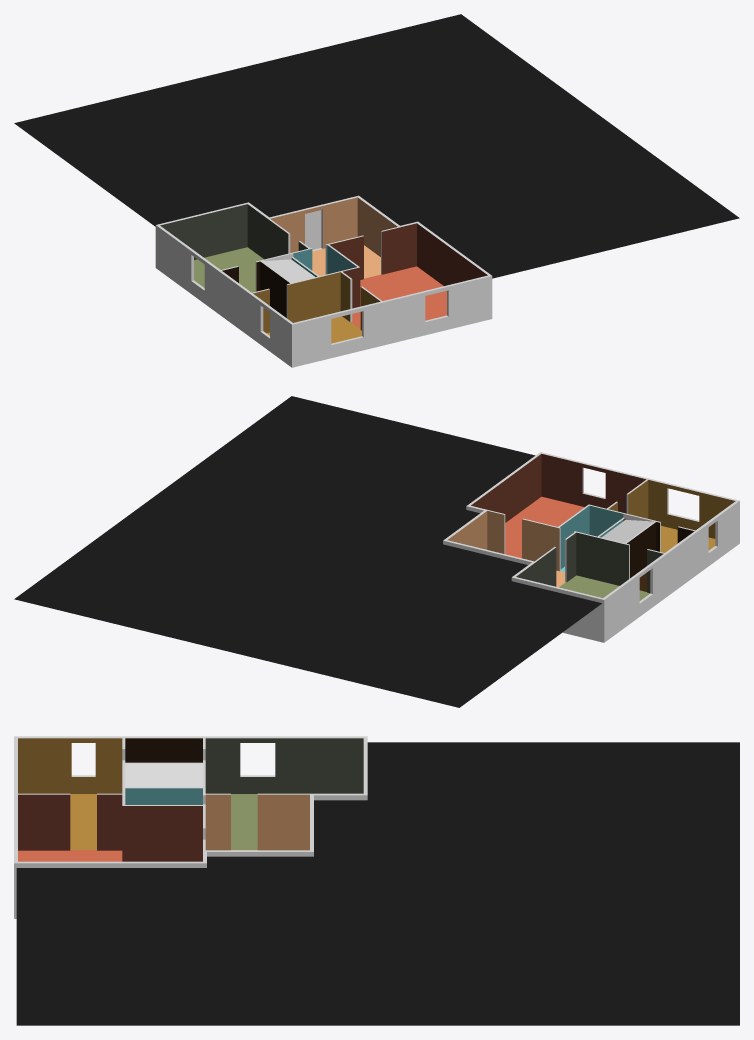
The model's file is map.fbx.
The picture shows the model from 3 angles, top to bottom: view 1: azimuth 30°, elevation 25°; view 2: azimuth 150°, elevation 25°; view 3: azimuth 270°, elevation 25°; orthographic projection. The views are drawn at different scales.
Visible parts, largest first — view 1: Бэк, План; view 2: Бэк, План; view 3: Бэк, План.
Part boxes in pixels (x1=…): Бэк: x1=14, y1=14, x2=739, y2=278; План: x1=155, y1=195, x2=492, y2=367; Бэк: x1=14, y1=396, x2=601, y2=707; План: x1=443, y1=452, x2=739, y2=642; Бэк: x1=16, y1=742, x2=739, y2=1025; План: x1=14, y1=736, x2=367, y2=918.
Size of the model in its own units: 2510 by 230 by 2710.
